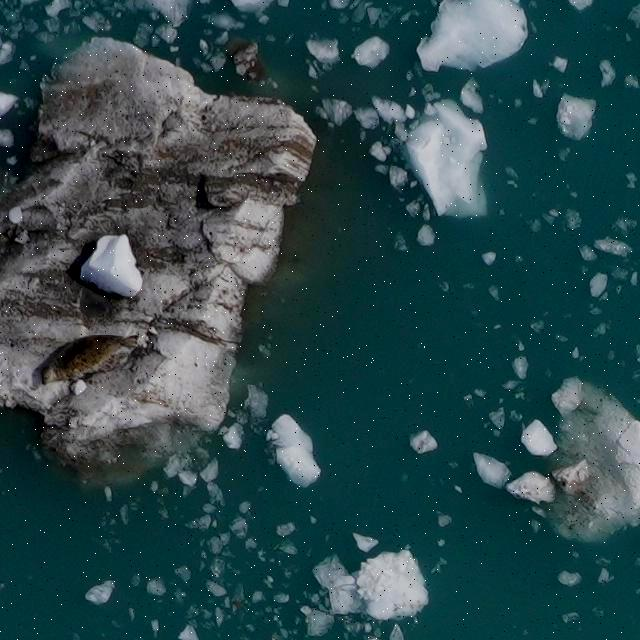seal: (30, 321, 147, 388)
